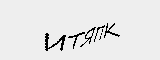И: (43, 29, 67, 54)
К: (104, 21, 120, 38)
П: (93, 24, 105, 44)
Т: (69, 29, 84, 50)
Я: (83, 27, 94, 48)
